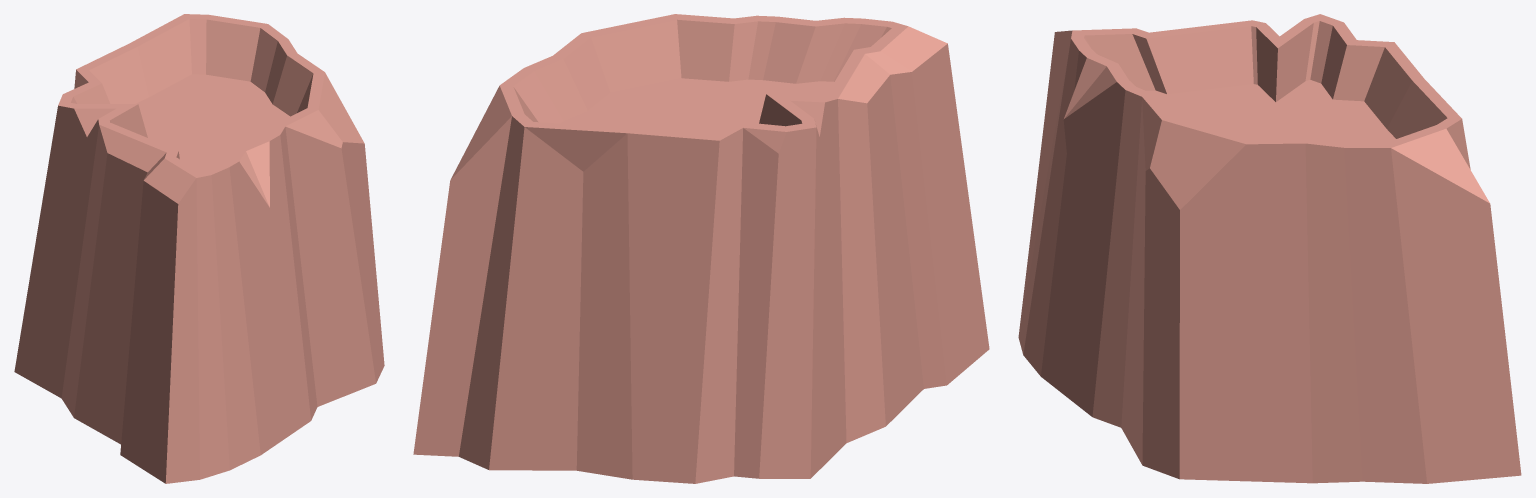
File: Romb_V7_Vlad.fbx
3 views of the same model, side by side, from view 1: azimuth 30°, elevation 25°; view 2: azimuth 150°, elevation 25°; view 3: azimuth 270°, elevation 25° (orthographic). The views are drawn at different scales.
Visible parts, largest first — view 1: Romb_V7; view 2: Romb_V7; view 3: Romb_V7.
Part boxes in pixels (left/top/right/bottom): Romb_V7: left=14, top=14, right=384, bottom=483; Romb_V7: left=413, top=14, right=989, bottom=483; Romb_V7: left=1018, top=14, right=1521, bottom=483.
Bounding box in the file's own units: 112 × 100 × 144.
